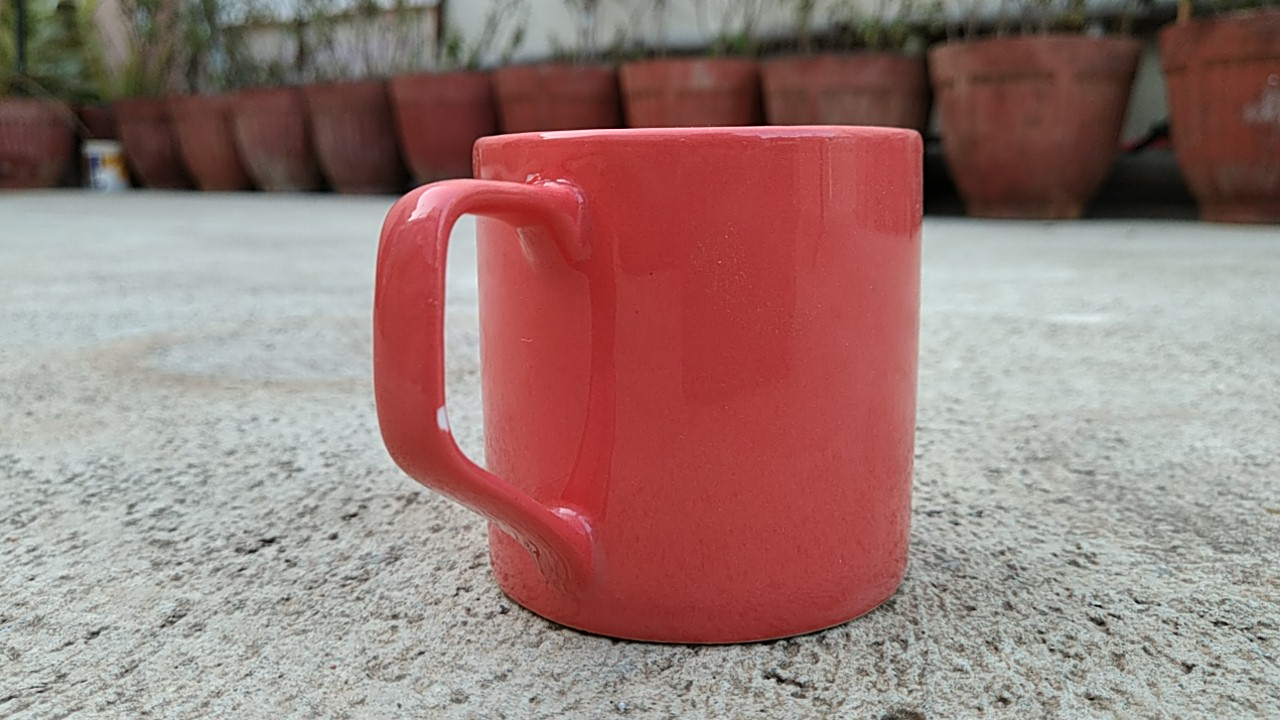cup: (361, 105, 954, 668)
